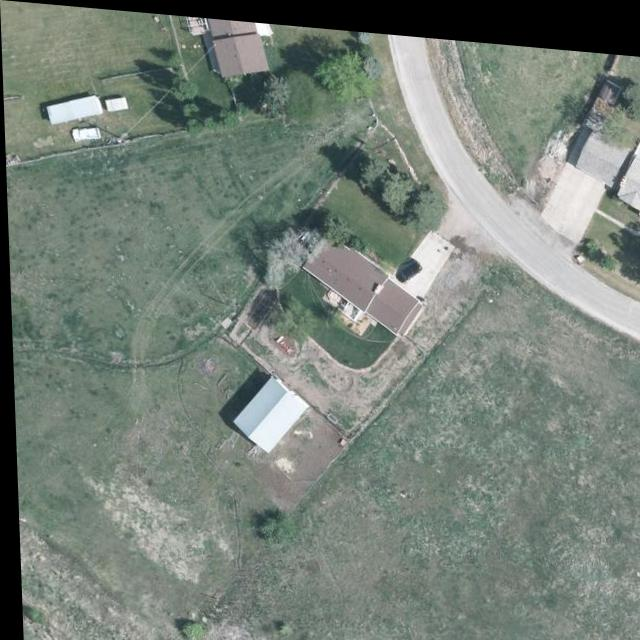vehicle: (393, 248, 422, 282), (70, 124, 101, 144)
